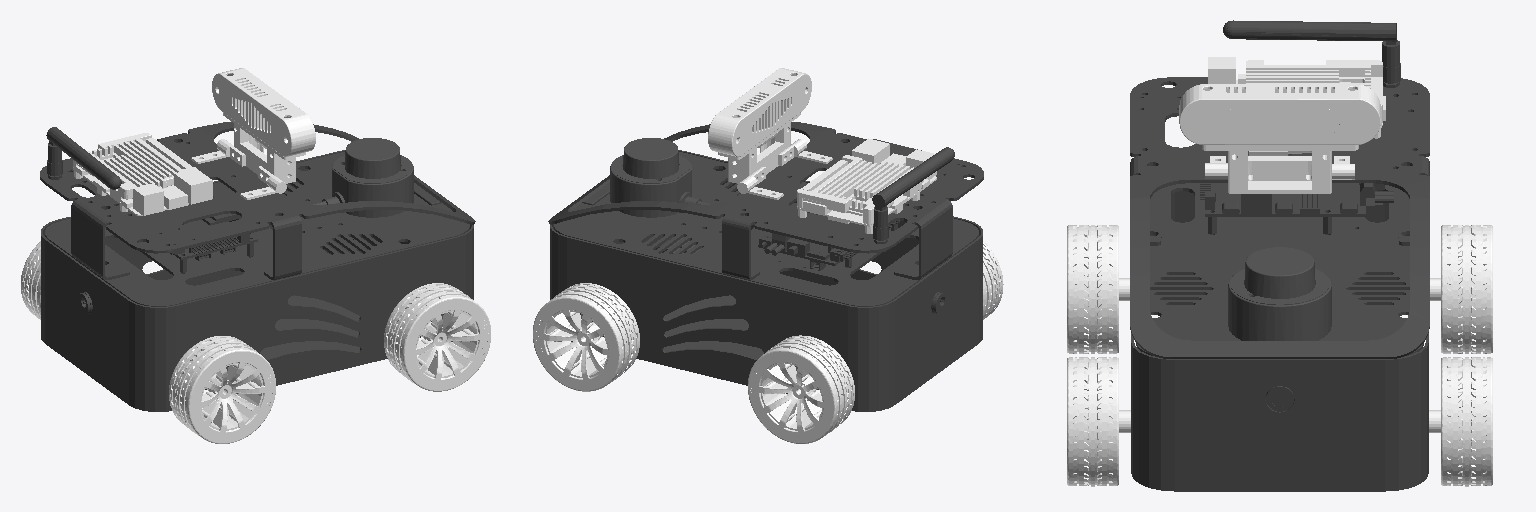
robot.urdf — r3S_4wd_robot:
<?xml version="1.0" encoding="utf-8"?>
<!-- This URDF was automatically created by SolidWorks to URDF Exporter! Originally created by [author] ([email redacted]) 
     Commit Version: 1.6.0-4-g7f85cfe  Build Version: 1.6.7995.38578
     For more information, please see http://wiki.ros.org/sw_urdf_exporter -->
<robot
  name="r3S_4wd_robot">
  <link
    name="base_link">
    <inertial>
      <origin
        xyz="-0.00669276364599675 0.000624733508219333 0.041566497261396"
        rpy="0 0 0" />
      <mass
        value="0.487326840721694" />
      <inertia
        ixx="0.000728887748396892"
        ixy="-1.95581972306923E-06"
        ixz="1.38866314714851E-05"
        iyy="0.00137350697386254"
        iyz="1.27363606215693E-06"
        izz="0.00198019205992713" />
    </inertial>
    <visual>
      <origin
        xyz="0 0 0"
        rpy="0 0 0" />
      <geometry>
        <mesh
          filename="package://wheeltec_robot_urdf/meshes/r3S_4wd_robot_meshes/base_link.STL" />
      </geometry>
      <material
        name="">
        <color
          rgba="0.349019607843137 0.349019607843137 0.349019607843137 1" />
      </material>
    </visual>
    <collision>
      <origin
        xyz="0 0 0"
        rpy="0 0 0" />
      <geometry>
        <mesh
          filename="package://wheeltec_robot_urdf/meshes/r3S_4wd_robot_meshes/base_link.STL" />
      </geometry>
    </collision>
  </link>
  <link
    name="lf_wheel_link">
    <inertial>
      <origin
        xyz="5.02039364941309E-09 -0.000959117731609865 -3.67099444911756E-07"
        rpy="0 0 0" />
      <mass
        value="0.0432651621364507" />
      <inertia
        ixx="1.74274249039187E-05"
        ixy="-1.97181582179252E-09"
        ixz="2.42780558212303E-09"
        iyy="2.97234777434777E-05"
        iyz="3.65016136621756E-11"
        izz="1.74447678518863E-05" />
    </inertial>
    <visual>
      <origin
        xyz="0 0 0"
        rpy="0 0 0" />
      <geometry>
        <mesh
          filename="package://wheeltec_robot_urdf/meshes/r3S_4wd_robot_meshes/lf_wheel_link.STL" />
      </geometry>
      <material
        name="">
        <color
          rgba="1 1 1 1" />
      </material>
    </visual>
    <collision>
      <origin
        xyz="0 0 0"
        rpy="0 0 0" />
      <geometry>
        <mesh
          filename="package://wheeltec_robot_urdf/meshes/r3S_4wd_robot_meshes/lf_wheel_link.STL" />
      </geometry>
    </collision>
  </link>
  <joint
    name="lf_wheel_joint"
    type="continuous">
    <origin
      xyz="0.0759459119540792 0.0945904469516561 0.0167"
      rpy="0 0 0" />
    <parent
      link="base_link" />
    <child
      link="lf_wheel_link" />
    <axis
      xyz="0 -1 0" />
  </joint>
  <link
    name="lb_wheel_link">
    <inertial>
      <origin
        xyz="3.82211208516114E-09 -0.000959117661118294 -3.67368547991853E-07"
        rpy="0 0 0" />
      <mass
        value="0.0432651600147461" />
      <inertia
        ixx="1.74274247813233E-05"
        ixy="-1.9719222337664E-09"
        ixz="2.42806509765921E-09"
        iyy="2.97234762989874E-05"
        iyz="3.64398550550807E-11"
        izz="1.74447664850641E-05" />
    </inertial>
    <visual>
      <origin
        xyz="0 0 0"
        rpy="0 0 0" />
      <geometry>
        <mesh
          filename="package://wheeltec_robot_urdf/meshes/r3S_4wd_robot_meshes/lb_wheel_link.STL" />
      </geometry>
      <material
        name="">
        <color
          rgba="1 1 1 1" />
      </material>
    </visual>
    <collision>
      <origin
        xyz="0 0 0"
        rpy="0 0 0" />
      <geometry>
        <mesh
          filename="package://wheeltec_robot_urdf/meshes/r3S_4wd_robot_meshes/lb_wheel_link.STL" />
      </geometry>
    </collision>
  </link>
  <joint
    name="lb_wheel_joint"
    type="continuous">
    <origin
      xyz="-0.0816540880459208 0.0945904469516561 0.0167"
      rpy="0 0 0" />
    <parent
      link="base_link" />
    <child
      link="lb_wheel_link" />
    <axis
      xyz="0 -1 0" />
  </joint>
  <link
    name="rb_wheel_link">
    <inertial>
      <origin
        xyz="5.0420245339966E-09 0.000959117833922496 1.41173722285198E-07"
        rpy="0 0 0" />
      <mass
        value="0.0432651607064601" />
      <inertia
        ixx="1.74274246895068E-05"
        ixy="1.97184259504201E-09"
        ixz="-2.42795742055245E-09"
        iyy="2.97234768494393E-05"
        iyz="3.64472773779085E-11"
        izz="1.74447671610457E-05" />
    </inertial>
    <visual>
      <origin
        xyz="0 0 0"
        rpy="0 0 0" />
      <geometry>
        <mesh
          filename="package://wheeltec_robot_urdf/meshes/r3S_4wd_robot_meshes/rb_wheel_link.STL" />
      </geometry>
      <material
        name="">
        <color
          rgba="1 1 1 1" />
      </material>
    </visual>
    <collision>
      <origin
        xyz="0 0 0"
        rpy="0 0 0" />
      <geometry>
        <mesh
          filename="package://wheeltec_robot_urdf/meshes/r3S_4wd_robot_meshes/rb_wheel_link.STL" />
      </geometry>
    </collision>
  </link>
  <joint
    name="rb_wheel_joint"
    type="continuous">
    <origin
      xyz="-0.0816540880459208 -0.0945635530483439 0.016701"
      rpy="0 0 0" />
    <parent
      link="base_link" />
    <child
      link="rb_wheel_link" />
    <axis
      xyz="0 1 0" />
  </joint>
  <link
    name="rf_wheel_link">
    <inertial>
      <origin
        xyz="5.16426455071661E-09 0.000959117797785097 1.41259390941395E-07"
        rpy="0 0 0" />
      <mass
        value="0.0432651606285765" />
      <inertia
        ixx="1.7427424775695E-05"
        ixy="1.97182426016104E-09"
        ixz="-2.42793235422408E-09"
        iyy="2.97234766918253E-05"
        iyz="3.64825302983499E-11"
        izz="1.74447669258113E-05" />
    </inertial>
    <visual>
      <origin
        xyz="0 0 0"
        rpy="0 0 0" />
      <geometry>
        <mesh
          filename="package://wheeltec_robot_urdf/meshes/r3S_4wd_robot_meshes/rf_wheel_link.STL" />
      </geometry>
      <material
        name="">
        <color
          rgba="1 1 1 1" />
      </material>
    </visual>
    <collision>
      <origin
        xyz="0 0 0"
        rpy="0 0 0" />
      <geometry>
        <mesh
          filename="package://wheeltec_robot_urdf/meshes/r3S_4wd_robot_meshes/rf_wheel_link.STL" />
      </geometry>
    </collision>
  </link>
  <joint
    name="rf_wheel_joint"
    type="continuous">
    <origin
      xyz="0.0759459119540792 -0.0945635530483439 0.016701"
      rpy="0 0 0" />
    <parent
      link="base_link" />
    <child
      link="rf_wheel_link" />
    <axis
      xyz="0 1 0" />
  </joint>
  <link
    name="laser_link">
    <inertial>
      <origin
        xyz="0.000735465990627265 2.79287294136343E-07 -0.00549379656778801"
        rpy="0 0 0" />
      <mass
        value="0.000111381912632097" />
      <inertia
        ixx="8.09810255937584E-10"
        ixy="2.48436925682429E-14"
        ixz="-2.3895509120416E-14"
        iyy="8.09668177063903E-10"
        iyz="-2.28917457059598E-15"
        izz="1.17057115150886E-10" />
    </inertial>
    <visual>
      <origin
        xyz="0 0 0"
        rpy="0 0 0" />
      <geometry>
        <mesh
          filename="package://wheeltec_robot_urdf/meshes/r3S_4wd_robot_meshes/laser.STL" />
      </geometry>
      <material
        name="">
        <color
          rgba="0.376470588235294 0.376470588235294 0.376470588235294 1" />
      </material>
    </visual>
    <collision>
      <origin
        xyz="0 0 0"
        rpy="0 0 0" />
      <geometry>
        <mesh
          filename="package://wheeltec_robot_urdf/meshes/r3S_4wd_robot_meshes/laser.STL" />
      </geometry>
    </collision>
  </link>
  <joint
    name="laser_joint"
    type="fixed">
    <origin
      xyz="0.0834767944381039 1.32296970931968E-05 0.09655"
      rpy="0 0 -3.14159265358979" />
    <parent
      link="base_link" />
    <child
      link="laser_link" />
    <axis
      xyz="0 0 0" />
  </joint>
  <link
    name="camera_link">
    <inertial>
      <origin
        xyz="-4.5421630741338E-08 -3.22465443201167E-07 -0.0139995104143068"
        rpy="0 0 0" />
      <mass
        value="0.0285970337161944" />
      <inertia
        ixx="2.4906366149771E-05"
        ixy="1.4146863723594E-09"
        ixz="-3.44746211515206E-07"
        iyy="8.10339311583866E-06"
        iyz="8.74321734787667E-09"
        izz="1.91138599479044E-05" />
    </inertial>
    <visual>
      <origin
        xyz="0 0 0"
        rpy="0 0 0" />
      <geometry>
        <mesh
          filename="package://wheeltec_robot_urdf/meshes/r3S_4wd_robot_meshes/camera_link.STL" />
      </geometry>
      <material
        name="">
        <color
          rgba="1 1 1 1" />
      </material>
    </visual>
    <collision>
      <origin
        xyz="0 0 0"
        rpy="0 0 0" />
      <geometry>
        <mesh
          filename="package://wheeltec_robot_urdf/meshes/r3S_4wd_robot_meshes/camera_link.STL" />
      </geometry>
    </collision>
  </link>
  <joint
    name="camera_joint"
    type="fixed">
    <origin
      xyz="0.00160091195407918 -0.000100553048343928 0.152137"
      rpy="0 0 0" />
    <parent
      link="base_link" />
    <child
      link="camera_link" />
    <axis
      xyz="0 0 0" />
  </joint>
  <link
    name="controller_link">
    <inertial>
      <origin
        xyz="-0.0254318270510493 0.0178325117543412 0.0120915094567595"
        rpy="0 0 0" />
      <mass
        value="0.0371650836727923" />
      <inertia
        ixx="2.75273235225857E-05"
        ixy="-4.90409215182102E-07"
        ixz="-8.95610433776923E-08"
        iyy="1.08853947390836E-05"
        iyz="3.79053749296713E-07"
        izz="3.72570985634232E-05" />
    </inertial>
    <visual>
      <origin
        xyz="0 0 0"
        rpy="0 0 0" />
      <geometry>
        <mesh
          filename="package://wheeltec_robot_urdf/meshes/r3S_4wd_robot_meshes/controller_link.STL" />
      </geometry>
      <material
        name="">
        <color
          rgba="1 1 1 1" />
      </material>
    </visual>
    <collision>
      <origin
        xyz="0 0 0"
        rpy="0 0 0" />
      <geometry>
        <mesh
          filename="package://wheeltec_robot_urdf/meshes/r3S_4wd_robot_meshes/controller_link.STL" />
      </geometry>
    </collision>
  </link>
  <joint
    name="controller_joint"
    type="fixed">
    <origin
      xyz="-0.0539080491826598 -0.011432266551253 0.1135"
      rpy="0 0 0" />
    <parent
      link="base_link" />
    <child
      link="controller_link" />
    <axis
      xyz="0 0 0" />
  </joint>
</robot>

--- Render facts (derived) ---
3 views of the same robot in one strip: view 1: azimuth 30°, elevation 25°; view 2: azimuth 150°, elevation 25°; view 3: azimuth 270°, elevation 25° (orthographic).
Robot: r3S_4wd_robot — 8 links, 7 joints (4 continuous, 3 fixed); root link base_link; default pose: all joints at 0.
Visible links, largest first — view 1: base_link, rb_wheel_link, rf_wheel_link, camera_link, controller_link, laser_link, lb_wheel_link; view 2: base_link, lb_wheel_link, lf_wheel_link, camera_link, controller_link, laser_link, rb_wheel_link; view 3: base_link, camera_link, laser_link, lf_wheel_link, rf_wheel_link, lb_wheel_link, rb_wheel_link, controller_link.
Link boxes in pixels (<box>): base_link: <box>40,122,475,411</box>; rb_wheel_link: <box>169,336,275,443</box>; rf_wheel_link: <box>384,283,490,391</box>; camera_link: <box>191,68,315,199</box>; controller_link: <box>73,133,212,215</box>; laser_link: <box>313,138,413,217</box>; lb_wheel_link: <box>21,241,40,319</box>; base_link: <box>548,122,983,411</box>; lb_wheel_link: <box>748,335,854,443</box>; lf_wheel_link: <box>533,283,639,391</box>; camera_link: <box>708,68,832,199</box>; controller_link: <box>797,138,936,233</box>; laser_link: <box>610,138,709,217</box>; rb_wheel_link: <box>983,241,1003,319</box>; base_link: <box>1130,20,1429,491</box>; camera_link: <box>1179,84,1380,193</box>; laser_link: <box>1228,247,1331,340</box>; lf_wheel_link: <box>1429,357,1492,486</box>; rf_wheel_link: <box>1067,357,1130,486</box>; lb_wheel_link: <box>1430,225,1492,353</box>; rb_wheel_link: <box>1067,225,1129,353</box>; controller_link: <box>1208,57,1385,138</box>.
Size in the robot's own frame: 0.2532 by 0.2145 by 0.1819 metres.
8 mesh visuals loaded from 8 distinct referenced files (8 binary STL).